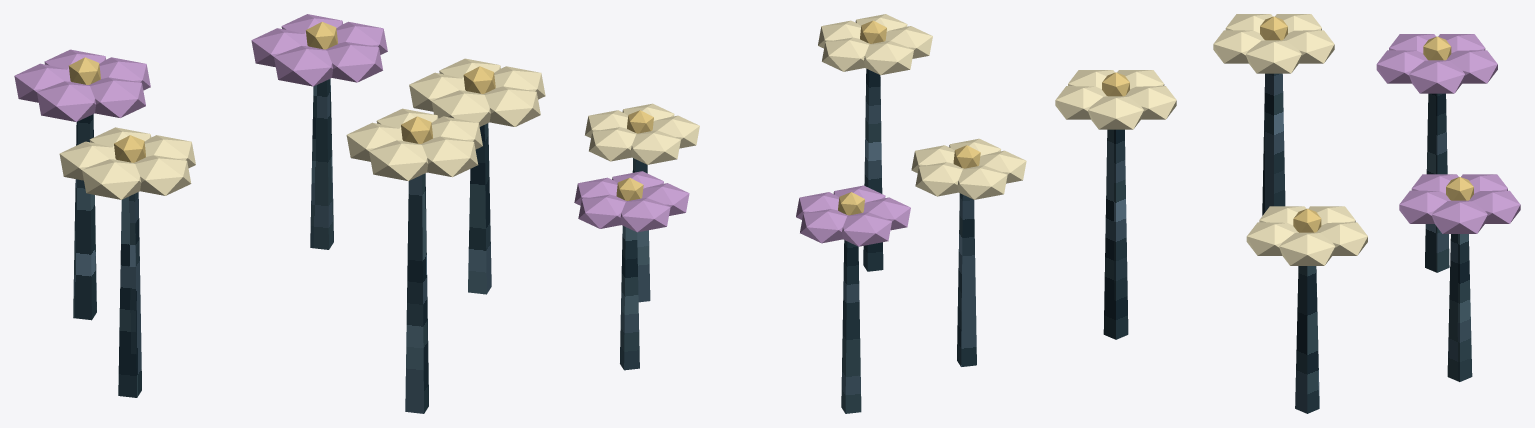
Rendered from enfeite_flores.glb.
3 renders of one model, left to right at view 1: azimuth 30°, elevation 25°; view 2: azimuth 150°, elevation 25°; view 3: azimuth 270°, elevation 25°, orthographic. The views are drawn at different scales.
Parts seen in each view (by area): view 1: neve_enfeite_flores; view 2: neve_enfeite_flores; view 3: neve_enfeite_flores.
Part boxes in pixels (bbox=[...]): neve_enfeite_flores: bbox=[14, 14, 545, 413]; neve_enfeite_flores: bbox=[574, 14, 1026, 413]; neve_enfeite_flores: bbox=[1055, 14, 1520, 413].
Bounding box in the file's own units: 0.366 × 0.211 × 0.339.
Materials: 4 (1 with a texture image).
